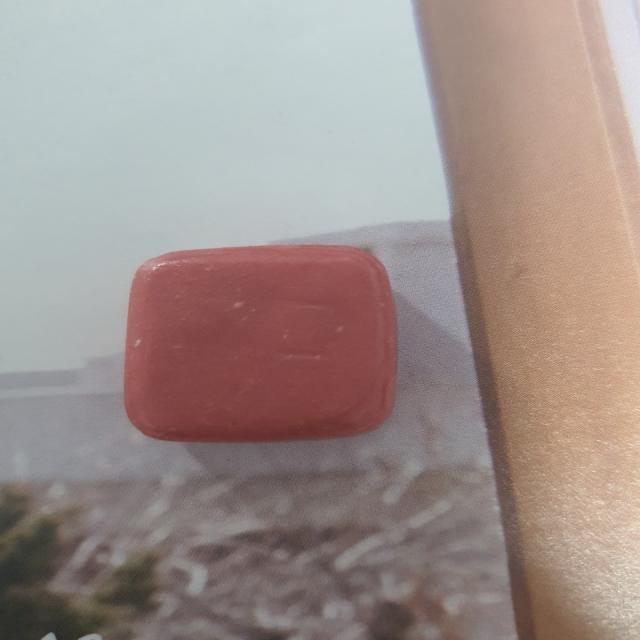pill: (112, 216, 400, 447)
